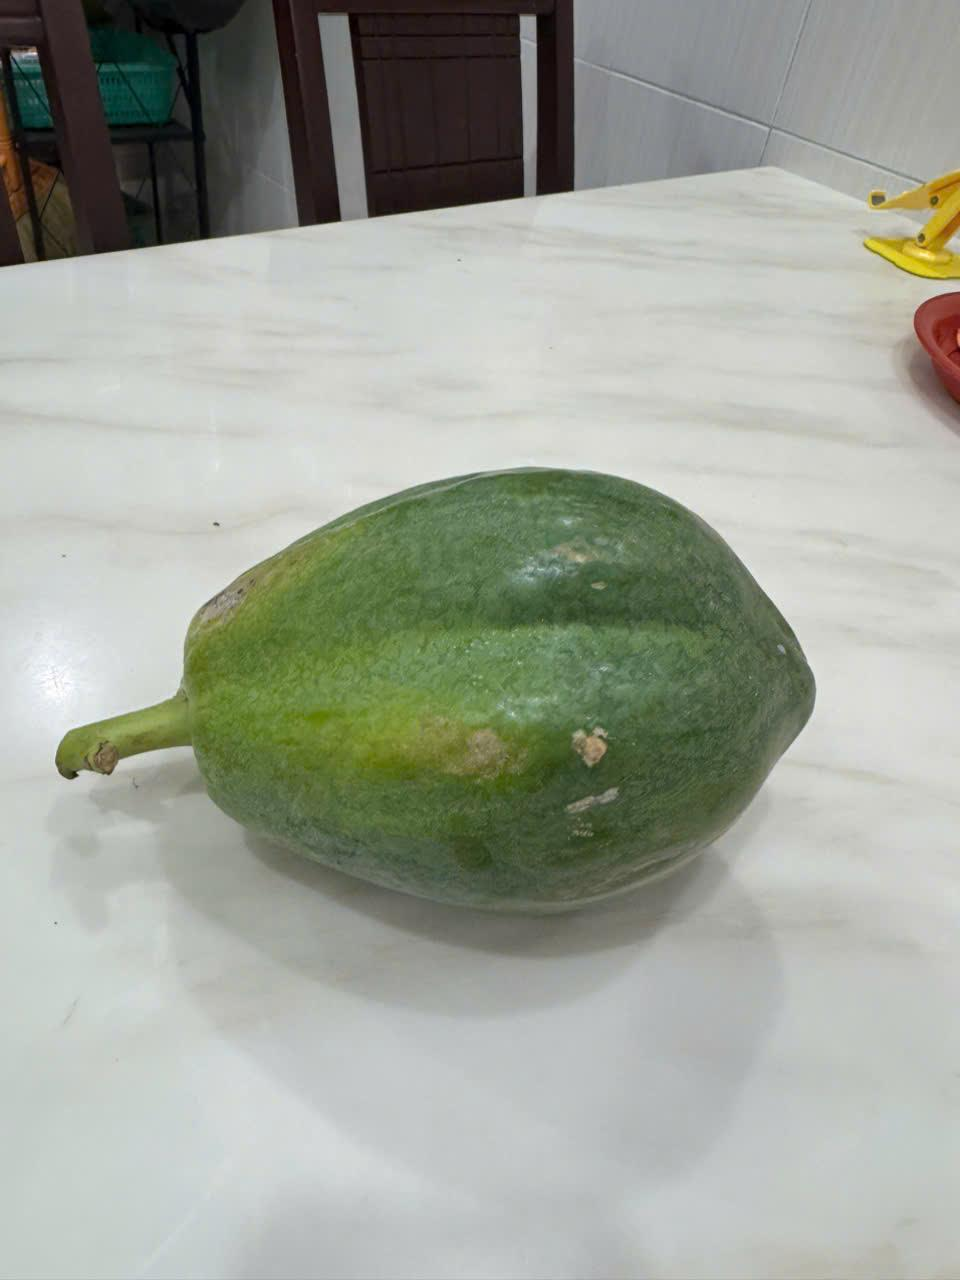papaya: (40, 430, 838, 931)
